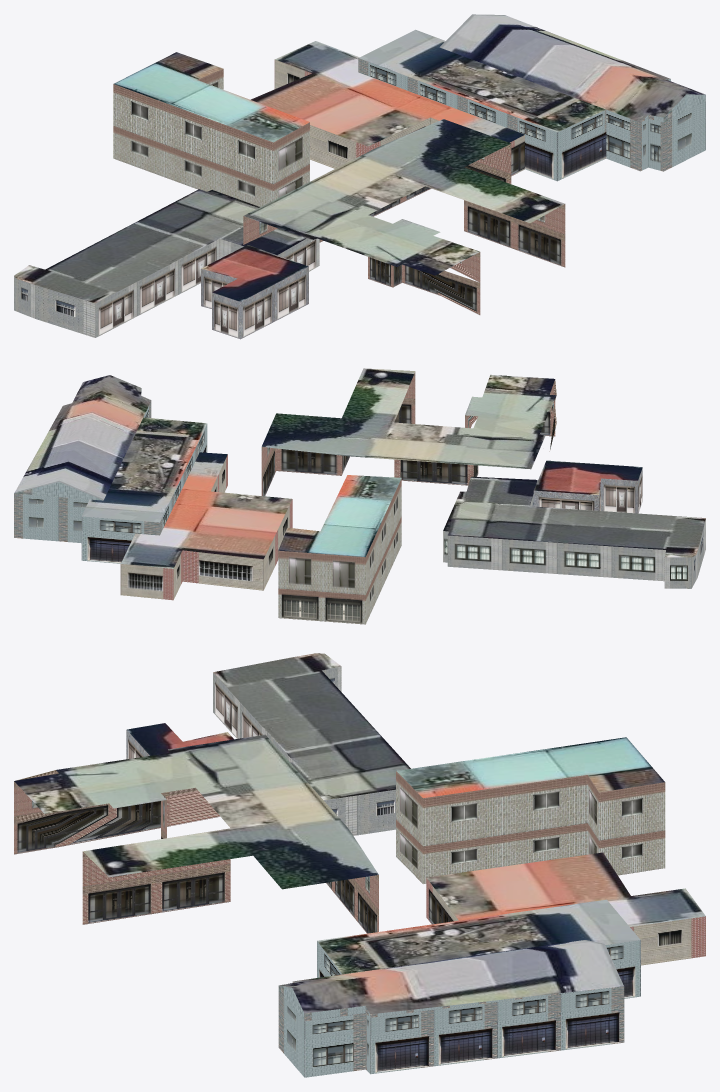
File: tile_LOD8_r3_c6.glb
3 renders of one model, top to bottom at view 1: azimuth 30°, elevation 25°; view 2: azimuth 150°, elevation 25°; view 3: azimuth 270°, elevation 25°, orthographic. The views are drawn at different scales.
Bounding box in the file's own units: 72.35 × 7.54 × 55.01.
Materials: 24 (24 with a texture image).
